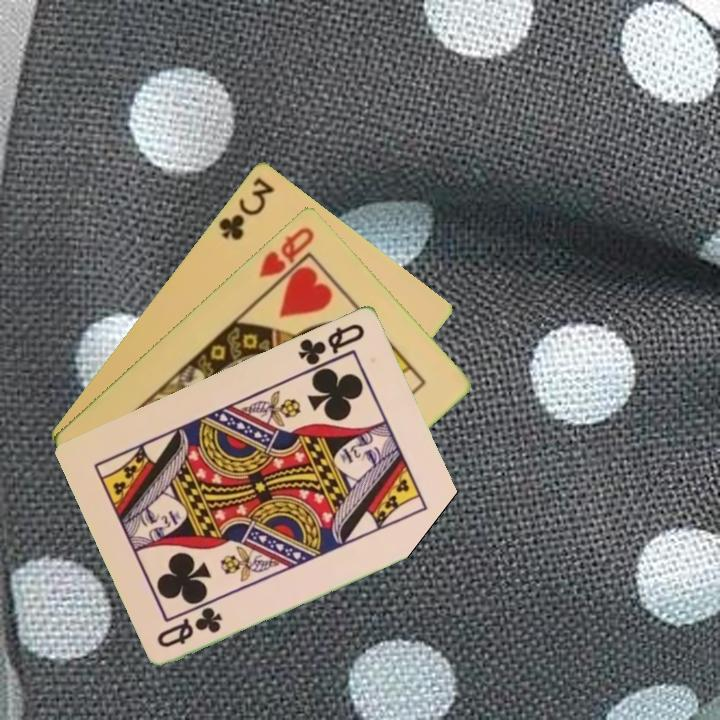3c: (214, 173, 278, 243)
Qc: (294, 319, 368, 374), (153, 604, 225, 650)
Qh: (255, 222, 318, 281)
